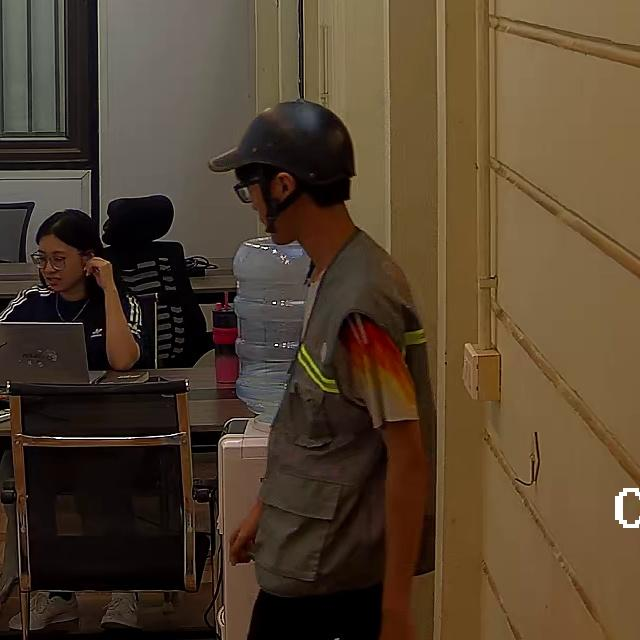helmet: (207, 98, 358, 188)
no_helmet: (34, 209, 109, 261)
none: (0, 284, 146, 372)
vest: (254, 235, 434, 598)
